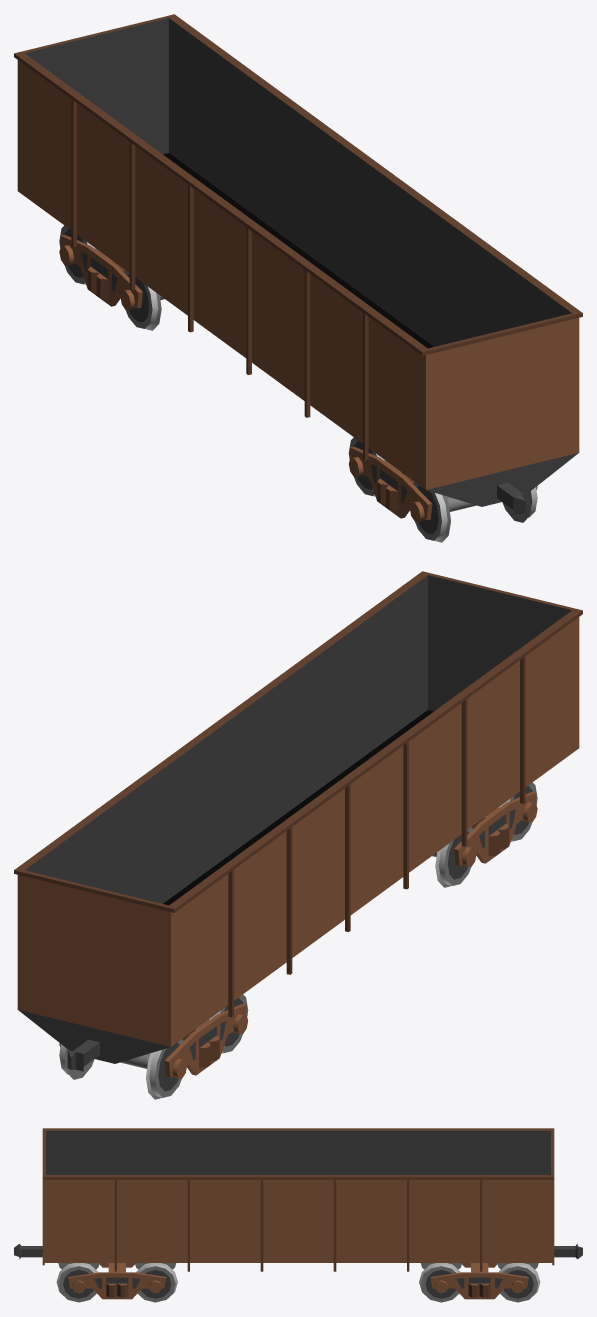
The model's file is opentop_12-532_Brown.glb.
3 renders of one model, top to bottom at view 1: azimuth 30°, elevation 25°; view 2: azimuth 150°, elevation 25°; view 3: azimuth 270°, elevation 25°, orthographic. The views are drawn at different scales.
Visible parts, largest first — view 1: opentop_12-532_Brown; view 2: opentop_12-532_Brown; view 3: opentop_12-532_Brown.
Boxes of the visible parts, x1,y1,x2,y2 form: opentop_12-532_Brown: [14, 14, 582, 542]; opentop_12-532_Brown: [14, 571, 582, 1099]; opentop_12-532_Brown: [14, 1128, 582, 1302].
Size of the model in its own units: 2.88 by 3.76 by 14.13.
1 material, 1 textured.
